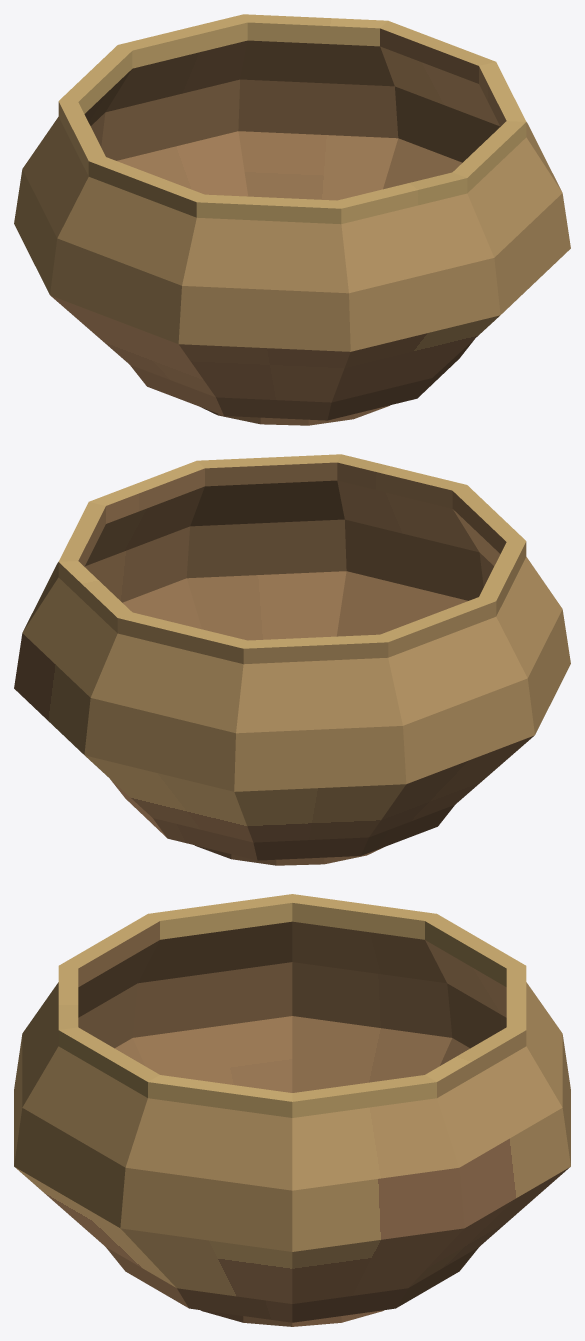
Rendered from vessel-ontayaki.glb.
3 views of the same model, one above another, from view 1: azimuth 30°, elevation 25°; view 2: azimuth 150°, elevation 25°; view 3: azimuth 270°, elevation 25° (orthographic). The views are drawn at different scales.
Parts seen in each view (by area): view 1: vessel-ontayaki/complete-inner-outer-shell-with-drainage, vessel-ontayaki/complete-open-foot-ring; view 2: vessel-ontayaki/complete-inner-outer-shell-with-drainage, vessel-ontayaki/complete-open-foot-ring; view 3: vessel-ontayaki/complete-inner-outer-shell-with-drainage, vessel-ontayaki/complete-open-foot-ring.
Boxes of the visible parts, x1=… form: vessel-ontayaki/complete-inner-outer-shell-with-drainage: x1=14, y1=14, x2=570, y2=420; vessel-ontayaki/complete-open-foot-ring: x1=202, y1=405, x2=389, y2=425; vessel-ontayaki/complete-inner-outer-shell-with-drainage: x1=14, y1=454, x2=570, y2=860; vessel-ontayaki/complete-open-foot-ring: x1=195, y1=845, x2=382, y2=865; vessel-ontayaki/complete-inner-outer-shell-with-drainage: x1=14, y1=894, x2=570, y2=1322; vessel-ontayaki/complete-open-foot-ring: x1=200, y1=1310, x2=384, y2=1326.
Size of the model in its own units: 0.394 by 0.204 by 0.3747.
1 material, 1 textured.
